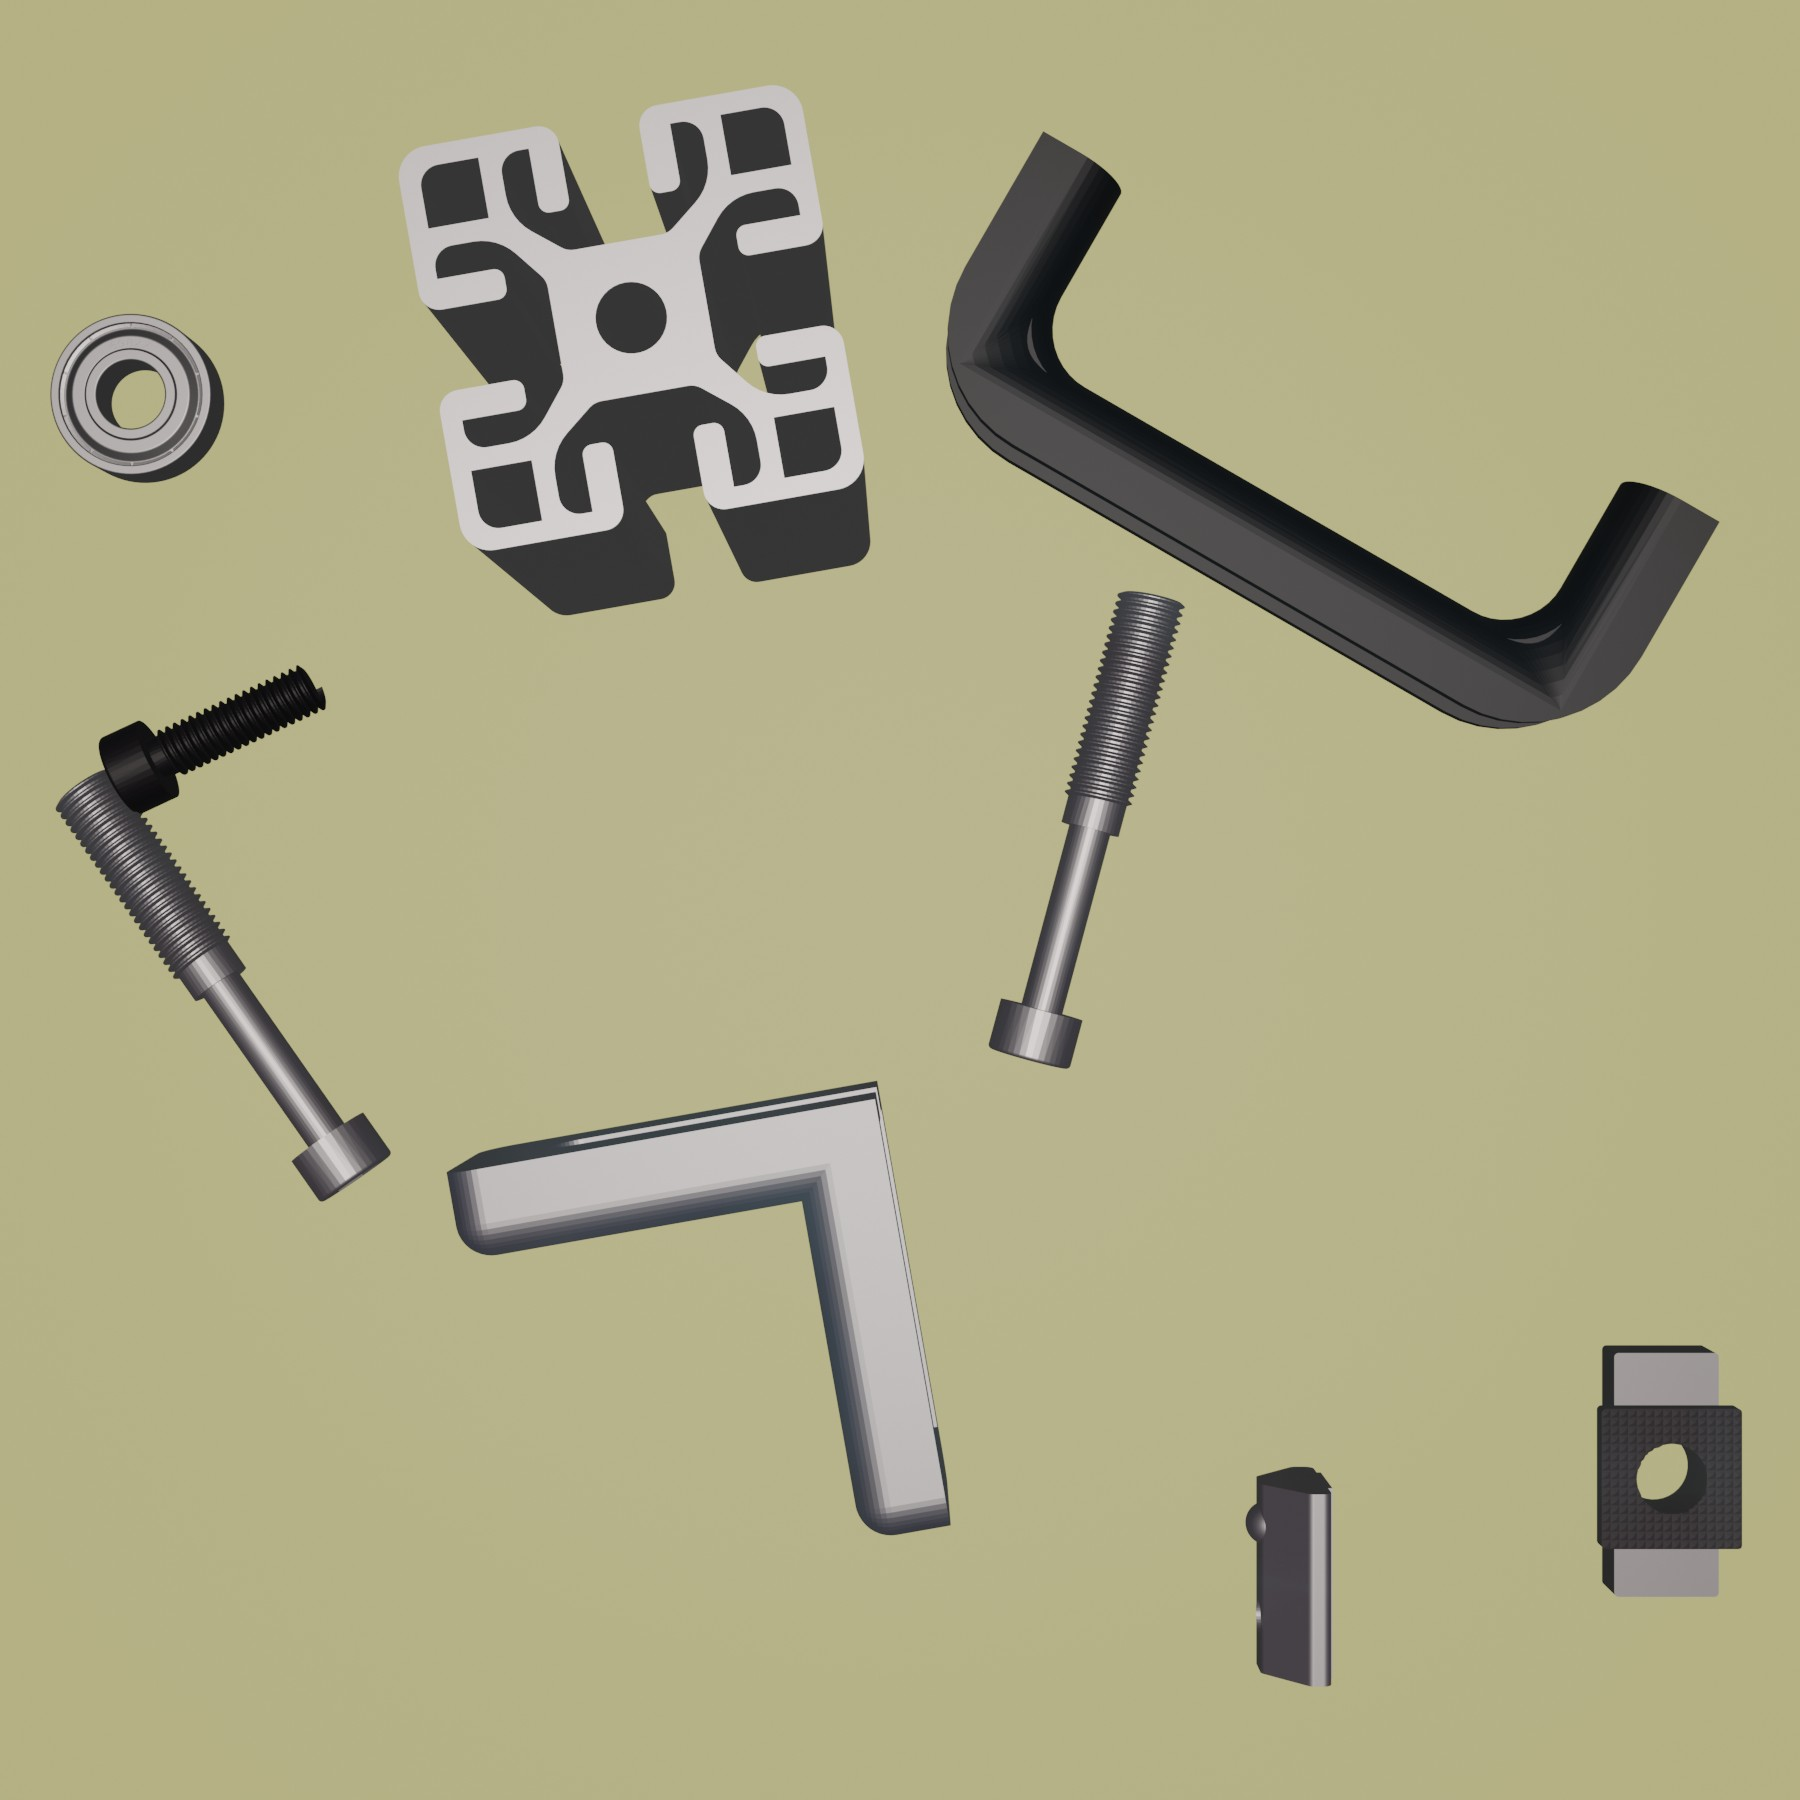Aluminium Extension: (397, 84, 874, 618)
Ball Bearing: (46, 312, 227, 486)
Multiwinkel: (443, 1076, 954, 1540)
Pull Handle: (945, 129, 1723, 732)
Shoulder Socket Head Cap Screw: (54, 766, 392, 1203), (982, 587, 1187, 1073)
Socket Head Cap Screw: (97, 663, 328, 814)
T Nut Square: (1587, 1338, 1747, 1601)
T Spring Nut: (1243, 1462, 1338, 1691)
